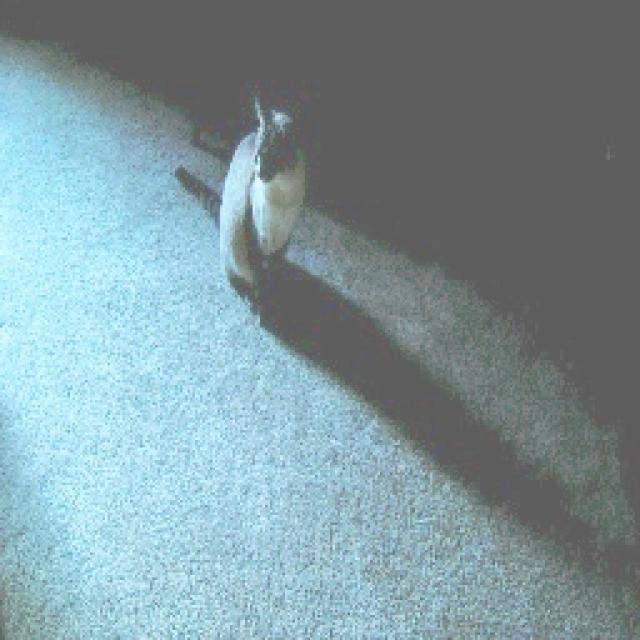cat: (166, 70, 319, 322)
